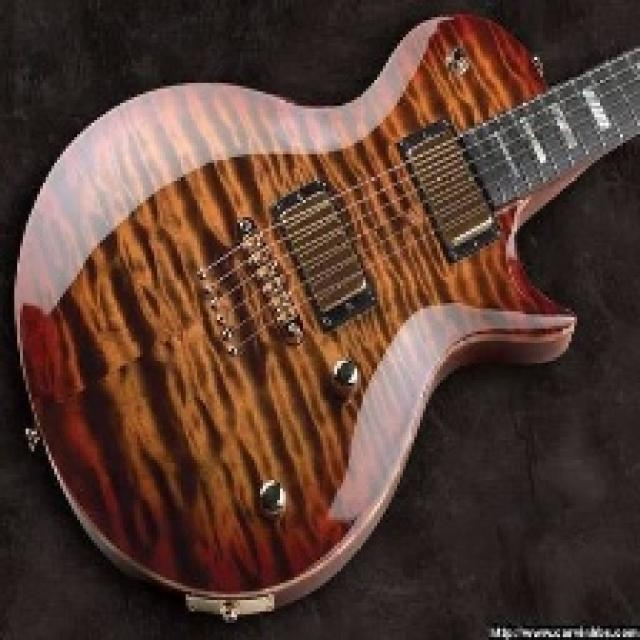guitar: (8, 8, 640, 614)
